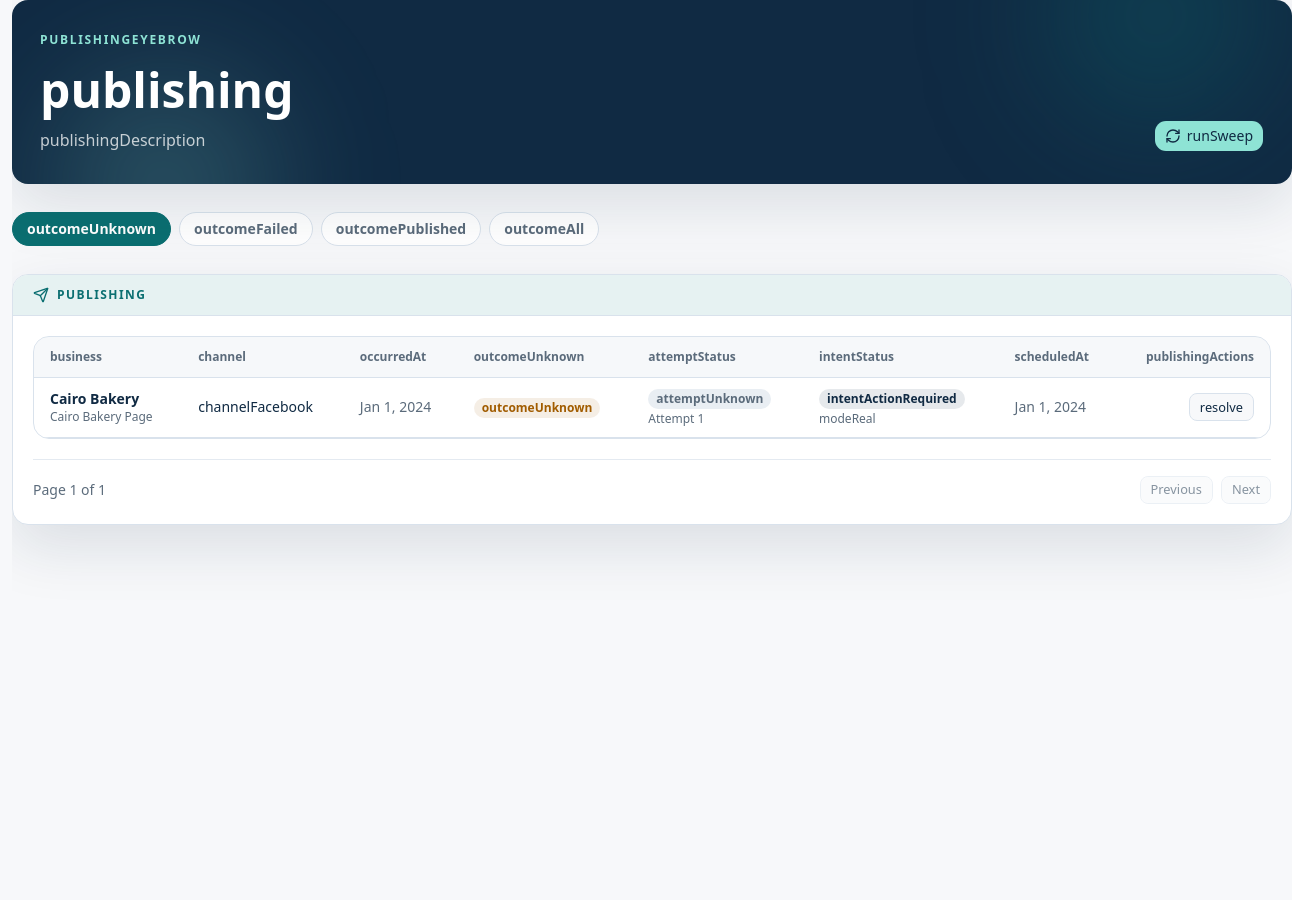
Scenario: AdminPublishingPage › runs the reconciliation sweep
expect the text "Cairo Bakery" is shown: met, box [50, 389, 139, 408]
What coordinates should you click on to do the following:
click the button "runSweep"
I would click on:
 (1209, 136)
Its box is [1154, 120, 1264, 152].
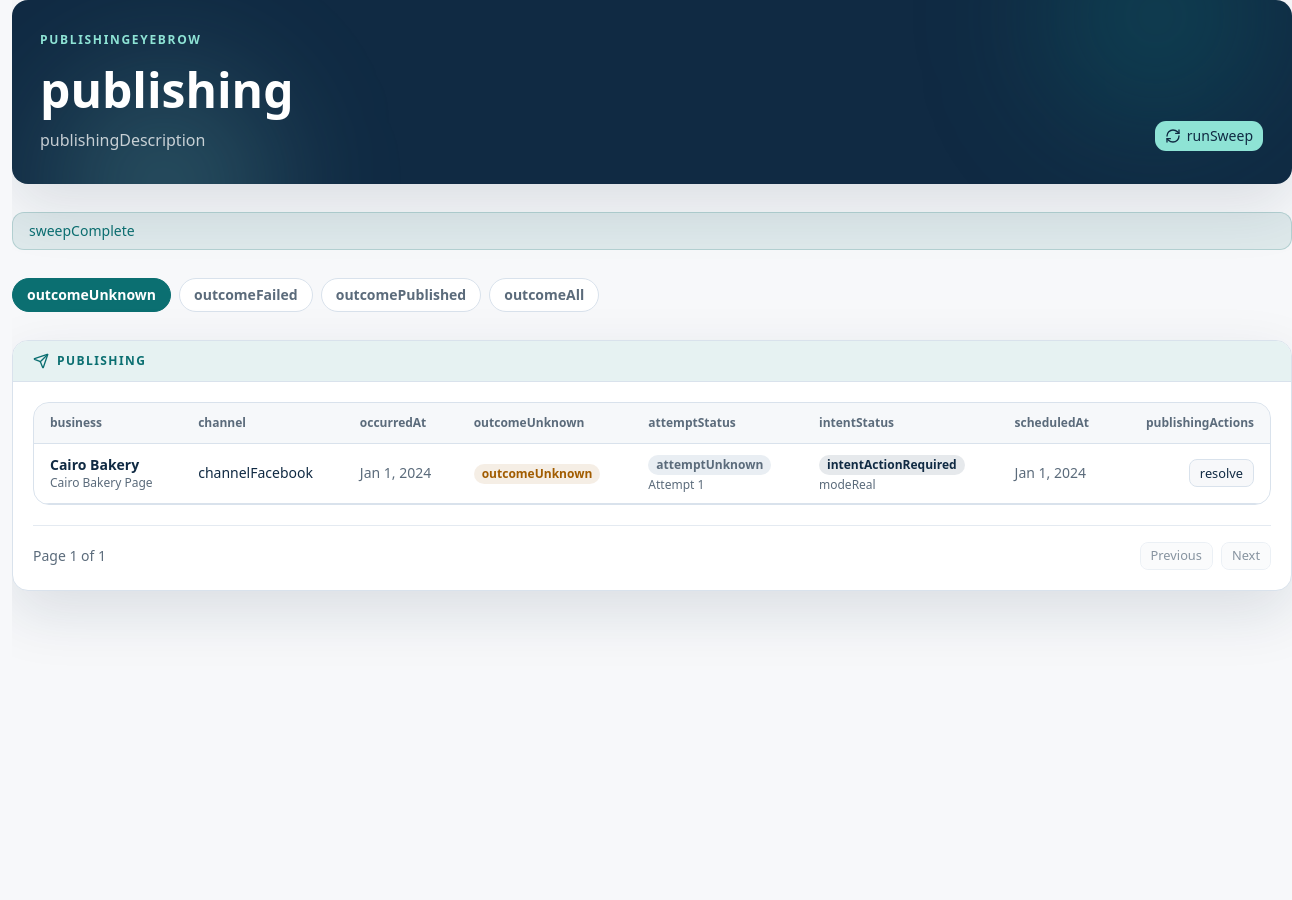
expect the text "sweepComplete" is shown: met, box [12, 212, 1291, 250]
